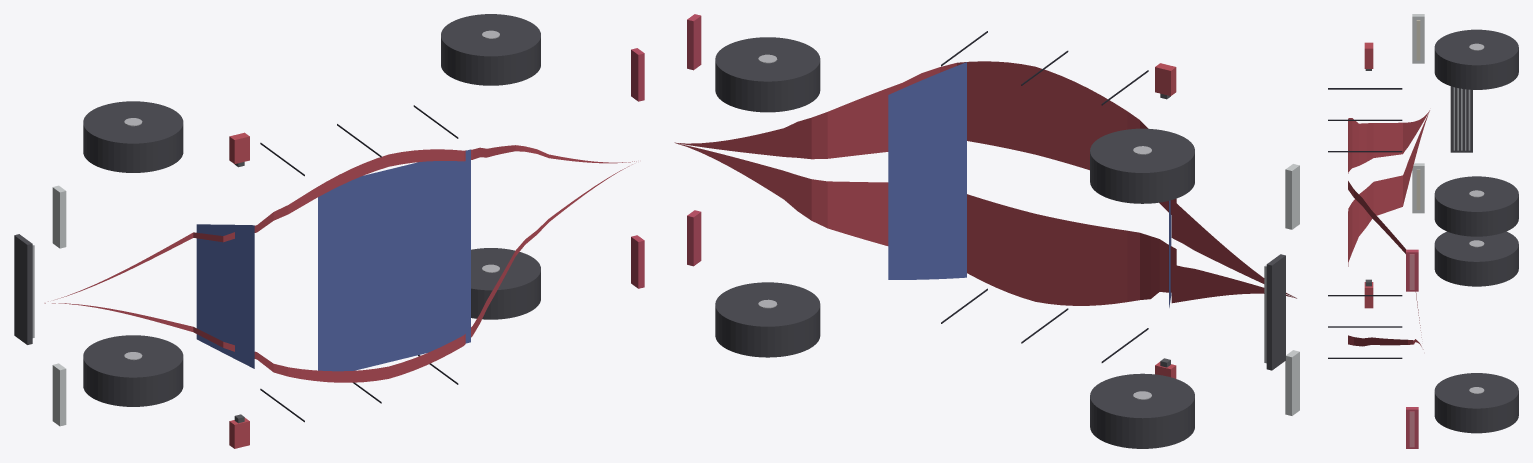
The model's file is D2_car_model.glb.
3 views of the same model, side by side, from view 1: azimuth 30°, elevation 25°; view 2: azimuth 150°, elevation 25°; view 3: azimuth 270°, elevation 25° (orthographic). The views are drawn at different scales.
Visible parts, largest first — view 1: world; view 2: world; view 3: world.
Boxes of the visible parts, box(x1,y1,x2,y2) form: world: box(14, 14, 644, 448); world: box(674, 14, 1299, 448); world: box(1328, 14, 1518, 448).
Bounding box in the file's own units: 4.7 × 2.31 × 1.54.
